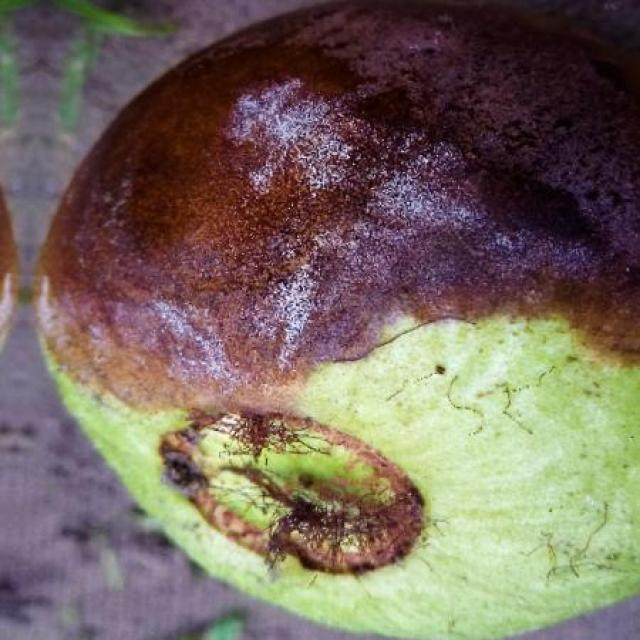Styler and Root: (36, 0, 640, 639)
